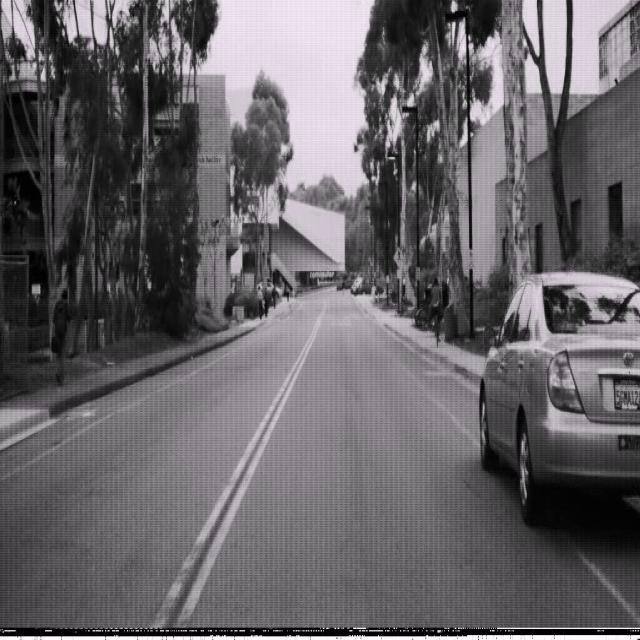pedestrianCrossing: (392, 244, 404, 267)
